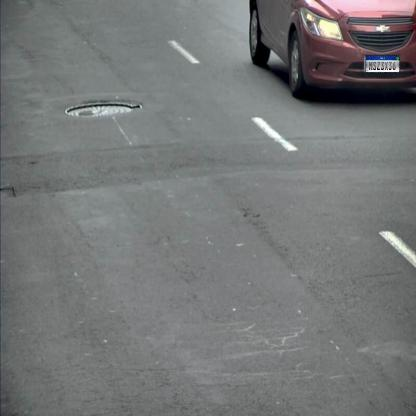PlacaM: (365, 55, 400, 73)
